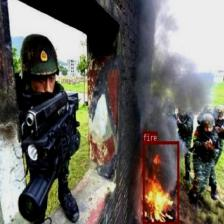fire: (142, 141, 178, 224)
